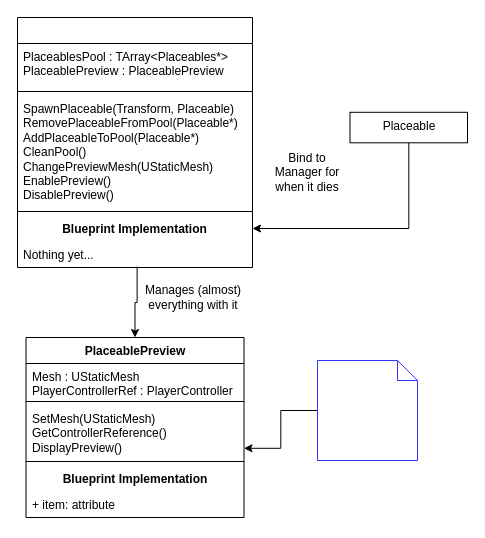
The diagram is 485 pixels wide and 538 high, and some of its shapes have lost their labels. The box of each missing label's shape, as (x1, y1, x2, y2) in pixels:
PlaceableManager: (16, 16, 252, 268)
This is called in Tick(). Only happens if the preview is enabled: (316, 360, 418, 460)
